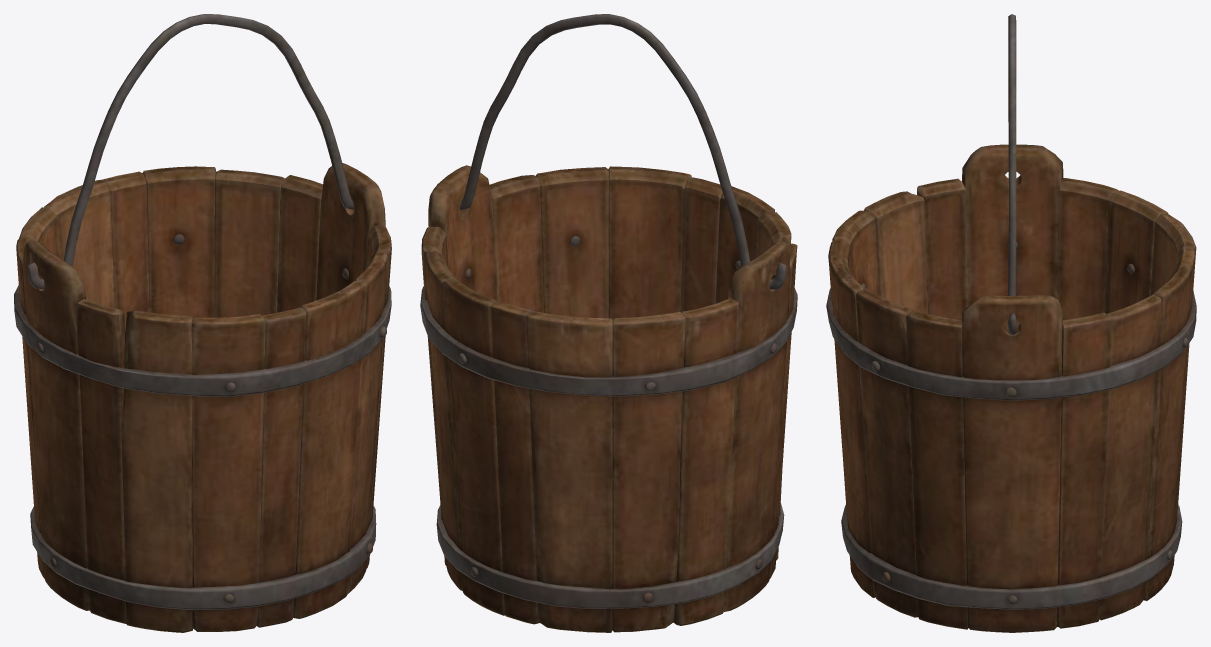
The model's file is wooden_bucket_01.glb.
3 renders of one model, left to right at view 1: azimuth 30°, elevation 25°; view 2: azimuth 150°, elevation 25°; view 3: azimuth 270°, elevation 25°, orthographic.
Visible parts, largest first — view 1: wooden_bucket_01, wooden_bucket_01_handle; view 2: wooden_bucket_01, wooden_bucket_01_handle; view 3: wooden_bucket_01, wooden_bucket_01_handle.
Boxes of the visible parts, x1,y1,x2,y2 form: wooden_bucket_01: (14, 163, 391, 632); wooden_bucket_01_handle: (27, 14, 354, 289); wooden_bucket_01: (420, 165, 797, 632); wooden_bucket_01_handle: (437, 14, 786, 289); wooden_bucket_01: (826, 144, 1196, 632); wooden_bucket_01_handle: (1008, 14, 1016, 335).
Bounding box in the file's own units: 0.367 × 0.5499 × 0.3422.
1 material, 1 textured.
